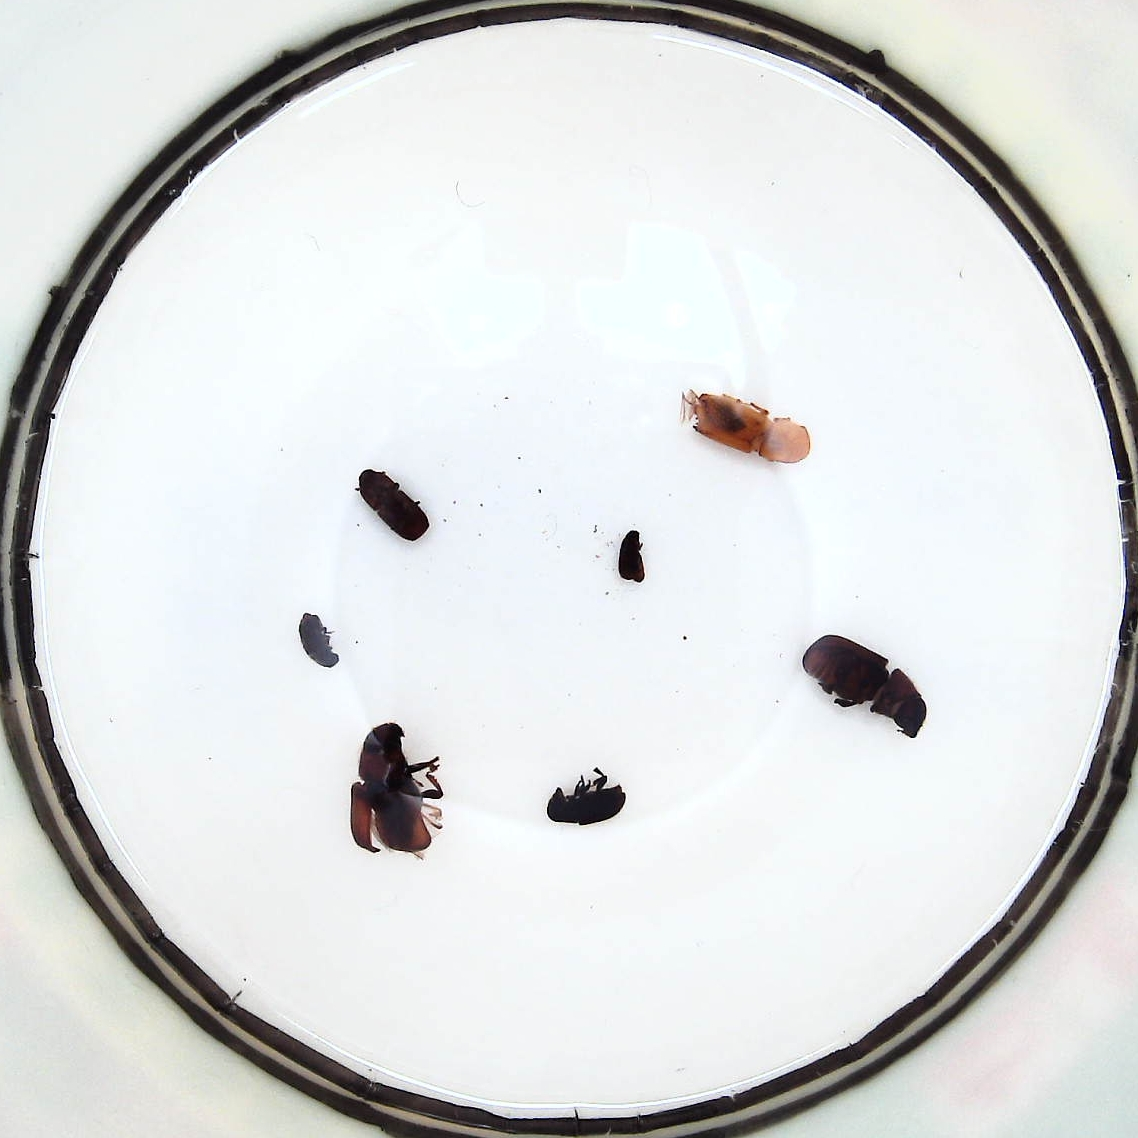Boerner: (682, 389, 810, 463)
Leconte: (802, 633, 926, 738), (350, 722, 442, 854)
acuminatus: (299, 611, 339, 668)
armandi: (546, 787, 626, 825)
coleoptera: (619, 530, 644, 582)
linnaeus: (355, 467, 429, 542)
